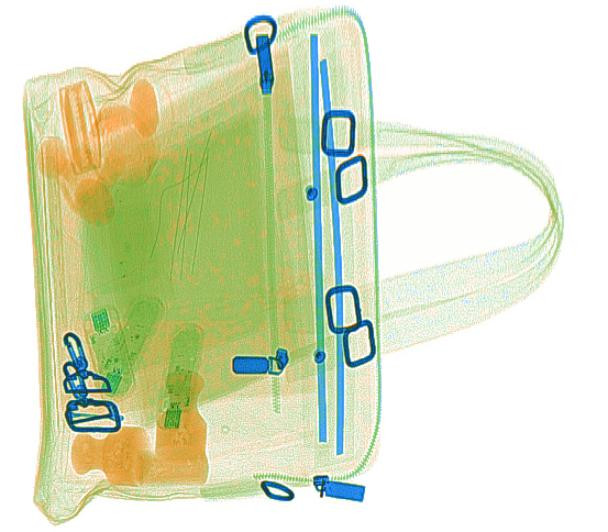USBFlashDisk: (101, 293, 161, 398), (82, 302, 135, 402), (160, 323, 207, 432)
seal: (78, 94, 160, 227), (57, 76, 158, 177), (36, 136, 112, 217), (154, 372, 206, 461), (68, 426, 147, 483)
